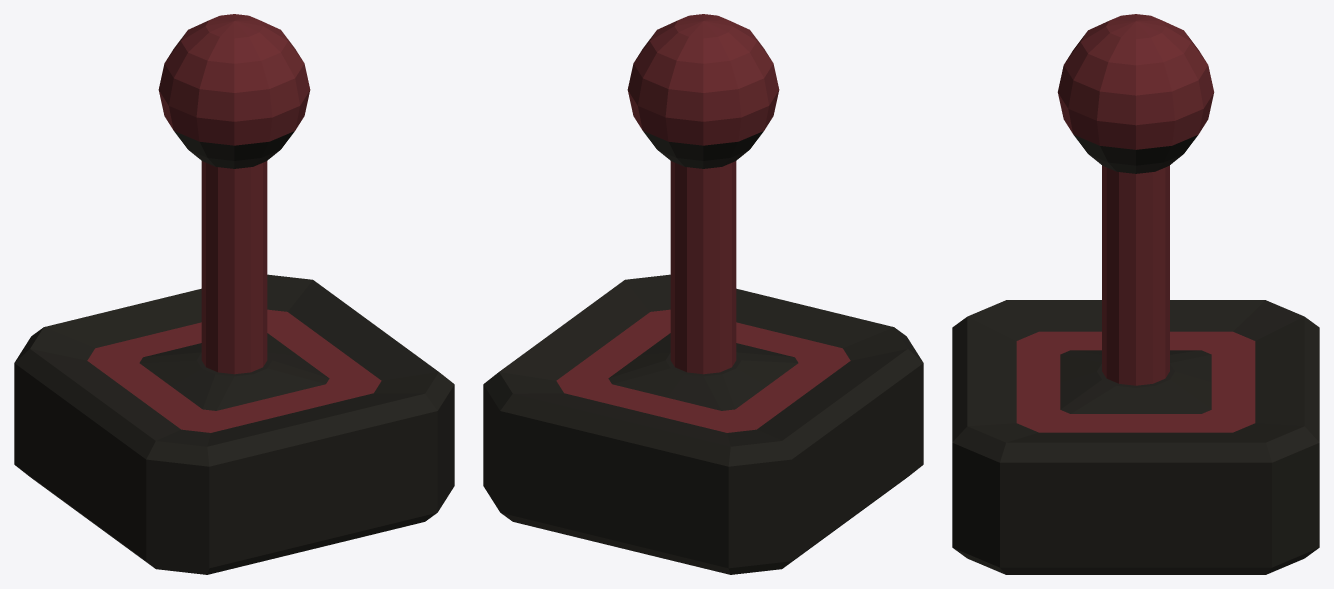
The model's file is Controller.fbx.
The picture shows the model from 3 angles, left to right: view 1: azimuth 30°, elevation 25°; view 2: azimuth 150°, elevation 25°; view 3: azimuth 270°, elevation 25°; orthographic projection. The views are drawn at different scales.
Visible parts, largest first — view 1: Controller; view 2: Controller; view 3: Controller.
Part boxes in pixels (bbox=[...]): Controller: bbox=[14, 14, 454, 574]; Controller: bbox=[483, 14, 923, 574]; Controller: bbox=[952, 14, 1319, 574].
Size of the model in its own units: 9.39 by 13.6 by 9.39.
